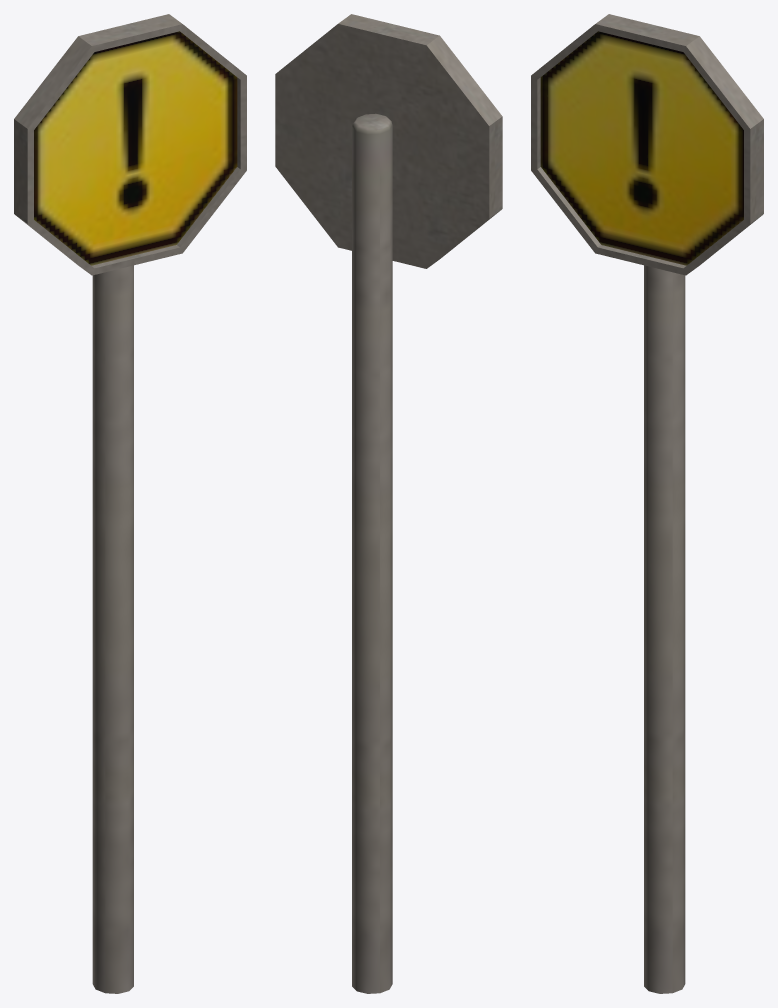
File: panneau_danger.glb
The picture shows the model from 3 angles, left to right: view 1: azimuth 30°, elevation 25°; view 2: azimuth 150°, elevation 25°; view 3: azimuth 330°, elevation 25°; orthographic projection. The views are drawn at different scales.
Parts seen in each view (by area): view 1: Danger_Sign; view 2: Danger_Sign; view 3: Danger_Sign.
Boxes of the visible parts, x1,y1,x2,y2 form: Danger_Sign: [14, 14, 246, 993]; Danger_Sign: [275, 14, 502, 993]; Danger_Sign: [531, 14, 763, 993].
Size of the model in its own units: 0.3696 by 1.56 by 0.1.
Materials: 2 (2 with a texture image).
